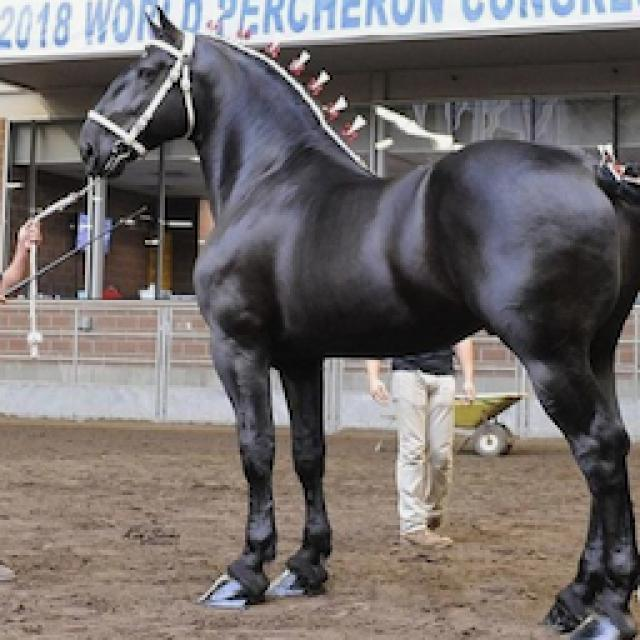Horse: (72, 2, 638, 638)
